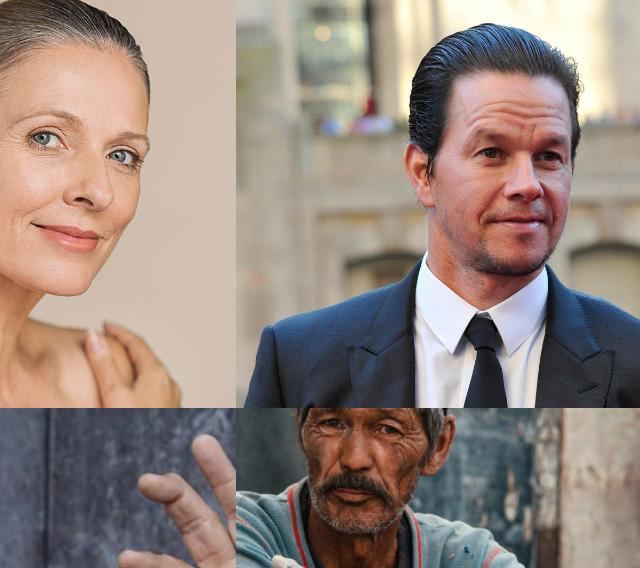crows_feet: (3, 129, 25, 151), (399, 424, 421, 446), (304, 414, 320, 436)
forehead: (530, 106, 558, 126), (500, 102, 524, 124), (469, 110, 489, 126)
gummy_smile: (475, 187, 499, 220), (542, 190, 562, 220), (321, 453, 339, 479), (371, 456, 387, 484)
masseter: (8, 204, 28, 232)
